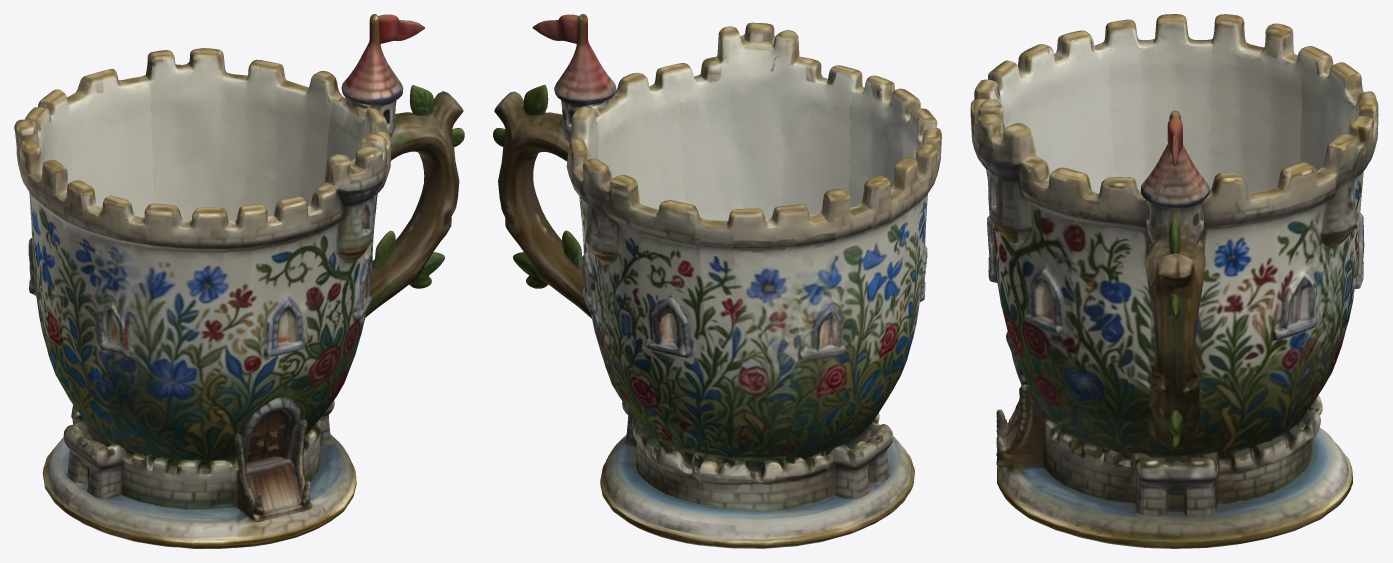
File: teacup.glb
3 views of the same model, side by side, from view 1: azimuth 30°, elevation 25°; view 2: azimuth 150°, elevation 25°; view 3: azimuth 270°, elevation 25° (orthographic). The views are drawn at different scales.
Visible parts, largest first — view 1: geometry_0; view 2: geometry_0; view 3: geometry_0.
Part boxes in pixels (left/top/right/bottom): geometry_0: left=14, top=14, right=464, bottom=548; geometry_0: left=493, top=14, right=941, bottom=548; geometry_0: left=970, top=14, right=1378, bottom=548.
Bounding box in the file's own units: 0.16 × 0.1591 × 0.1245.
1 material, 1 textured.
